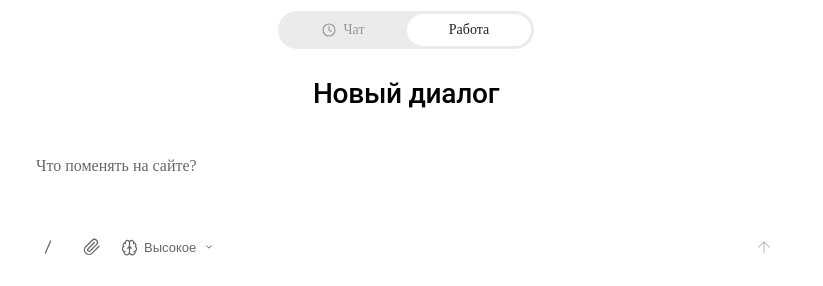
Test: new dialog › has the window of commands of a dialog, which says that they work there
Type "/" into the text box named "Сообщение" at [416, 183], box [26,145,806,221]
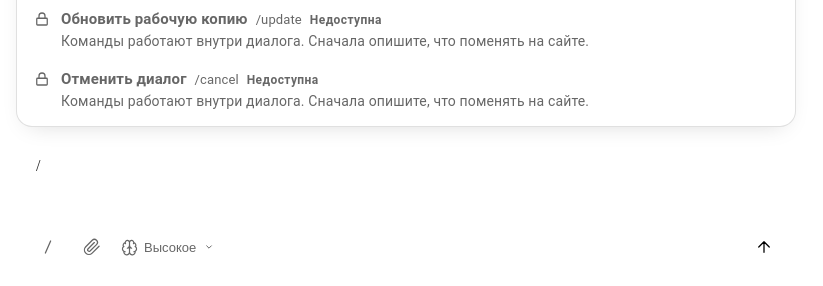
expect the button named "Команды" is shown: met, box [26,225,70,269]
expect the option that starts with "Обновить рабочую копию" shows "Команды работают внутри диалога. Сначала опишите, что поменять на сайте.": met, box [33,10,589,49]
expect the option that starts with "Отменить диалог" shows "Команды работают внутри диалога. Сначала опишите, что поменять на сайте.": met, box [33,70,589,109]
